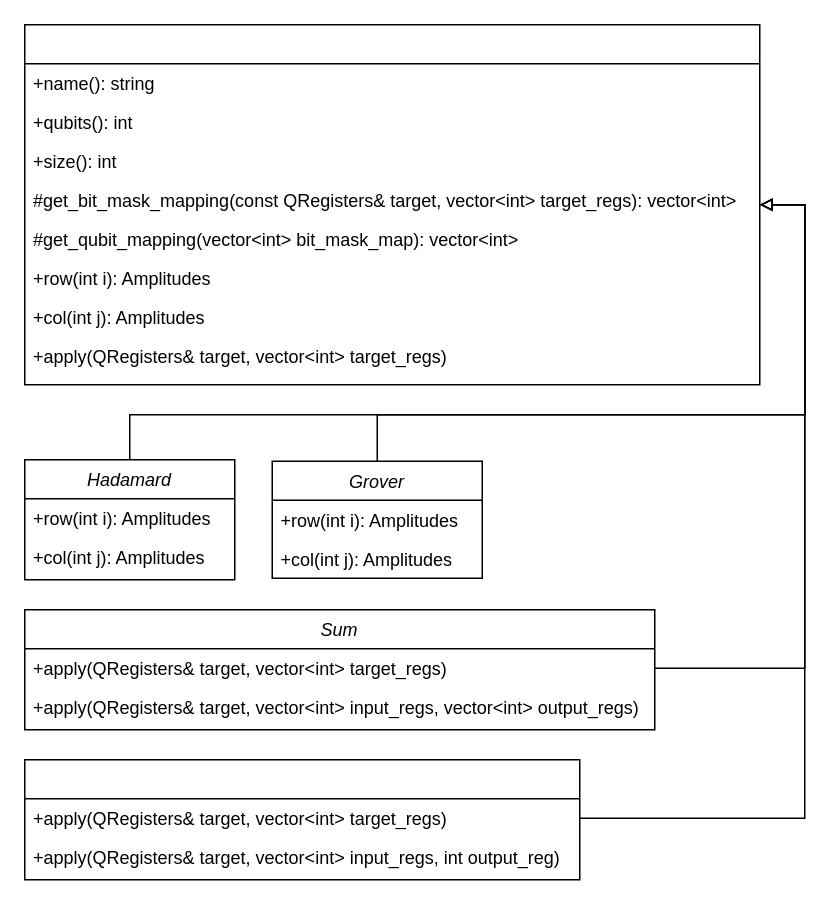
This 830x905 diagram has some shape labels left out. The shapes that lost their labels are listed below. From the top down, each one's box as (x1, y1, x2, y2) in pixels, then its label:
(23, 23, 760, 385): QOp
(23, 758, 580, 880): Mcnot
